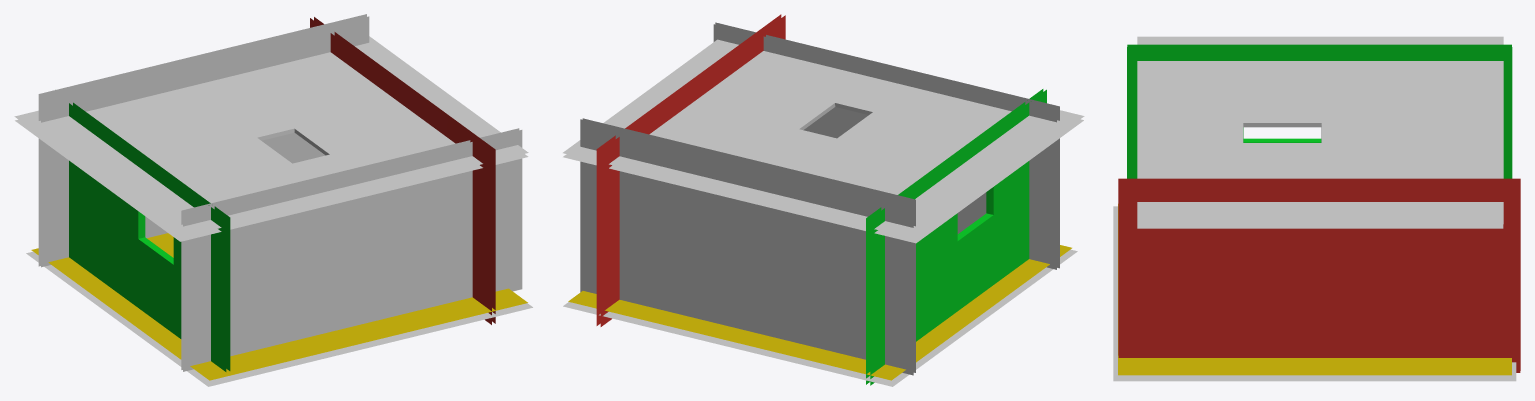
Rendered from CurrentsModel1.fbx.
3 views of the same model, side by side, from view 1: azimuth 30°, elevation 25°; view 2: azimuth 150°, elevation 25°; view 3: azimuth 270°, elevation 25° (orthographic). The views are drawn at different scales.
Visible parts, largest first — view 1: BackWall, Ceiling, GreenWall, FrontWall, Floor, RedWall; view 2: FrontWall, Ceiling, GreenWall, BackWall, Floor, RedWall; view 3: RedWall, Ceiling, Floor, GreenWall.
Part boxes in pixels (x1=…): BackWall: x1=181, y1=128, x2=522, y2=371; Ceiling: x1=14, y1=36, x2=528, y2=241; GreenWall: x1=69, y1=102, x2=230, y2=371; FrontWall: x1=38, y1=14, x2=369, y2=267; Floor: x1=26, y1=233, x2=532, y2=386; RedWall: x1=310, y1=17, x2=495, y2=324; FrontWall: x1=580, y1=118, x2=915, y2=375; Ceiling: x1=563, y1=39, x2=1084, y2=243; GreenWall: x1=866, y1=89, x2=1046, y2=385; BackWall: x1=713, y1=22, x2=1059, y2=269; Floor: x1=563, y1=245, x2=1077, y2=386; RedWall: x1=596, y1=14, x2=785, y2=326; RedWall: x1=1118, y1=178, x2=1520, y2=372; Ceiling: x1=1137, y1=36, x2=1503, y2=228; Floor: x1=1113, y1=204, x2=1516, y2=381; GreenWall: x1=1127, y1=44, x2=1512, y2=178.
Bounding box in the file's own units: 663 × 327 × 601.
